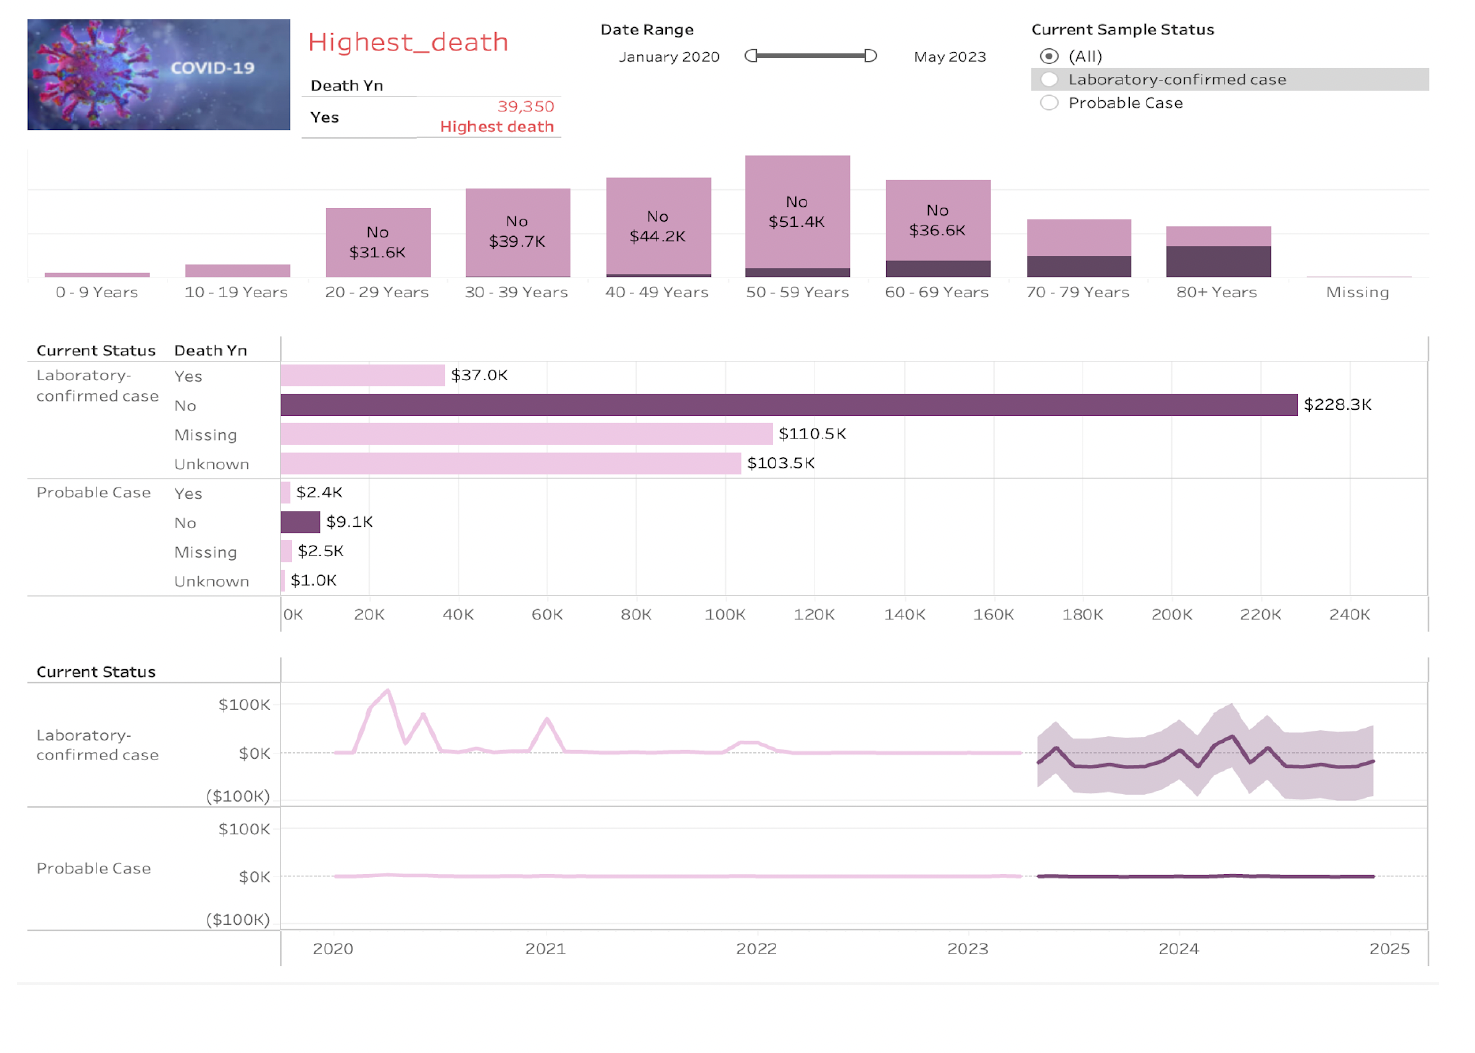

Layout of this report page (visuals, bound fields, positions):
{"tool":"tableau","page":{"name":"Covid_Dashboard","canvas":[1000,800],"ordinal":0},"visuals":[{"type":"image","param":"/Users/monikajangamprabhudev/Desktop/2.jpeg","box":[8,8,212,107]},{"type":"worksheet","title":"Highest_death","mark":"Automatic","rows":["death_yn"],"box":[220,8,208,107]},{"type":"filter","title":"Forecast_Line_Chart","param":"[federated.03evmsr18c50m3182sja71ljt6c7].[tmn:cdc_report_dt:qk]","box":[428,8,322,107]},{"type":"filter","title":"Forecast_Line_Chart","param":"[federated.03evmsr18c50m3182sja71ljt6c7].[none:current_status:nk]","box":[750,8,242,107]},{"type":"worksheet","title":"Stacked_bar_Chart","mark":"Automatic","rows":["COVID Data Truncated.csv_49C30521014242C7B2B2D7FA9052096B"],"cols":["age_group"],"box":[8,115,984,153]},{"type":"worksheet","title":"HorizontalBar_Chart","mark":"Automatic","rows":["current_status","death_yn"],"cols":["COVID Data Truncated.csv_49C30521014242C7B2B2D7FA9052096B"],"box":[8,268,984,263]},{"type":"worksheet","title":"Forecast_Line_Chart","mark":"Automatic","rows":["current_status","COVID Data Truncated.csv_49C30521014242C7B2B2D7FA9052096B"],"cols":["cdc_report_dt"],"box":[8,531,984,261]}]}

Visuals, with their boxes on the page's 1000x800 design canvas (x1, y1, x2, y2). These are canvas units, not pixel positions in the 1475x1053 screenshot, which may show the page scaled, cropped or inside an application window:
image: <box>8,8,220,115</box>
"Highest_death" worksheet: <box>220,8,428,115</box>
"Forecast_Line_Chart" filter: <box>428,8,750,115</box>
"Forecast_Line_Chart" filter: <box>750,8,992,115</box>
"Stacked_bar_Chart" worksheet: <box>8,115,992,268</box>
"HorizontalBar_Chart" worksheet: <box>8,268,992,531</box>
"Forecast_Line_Chart" worksheet: <box>8,531,992,792</box>
